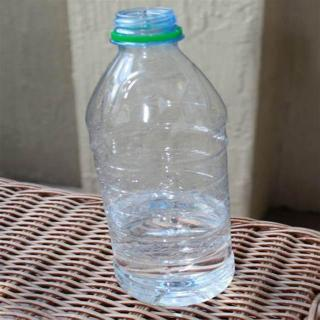Plastic-bottle: (77, 1, 257, 320)
